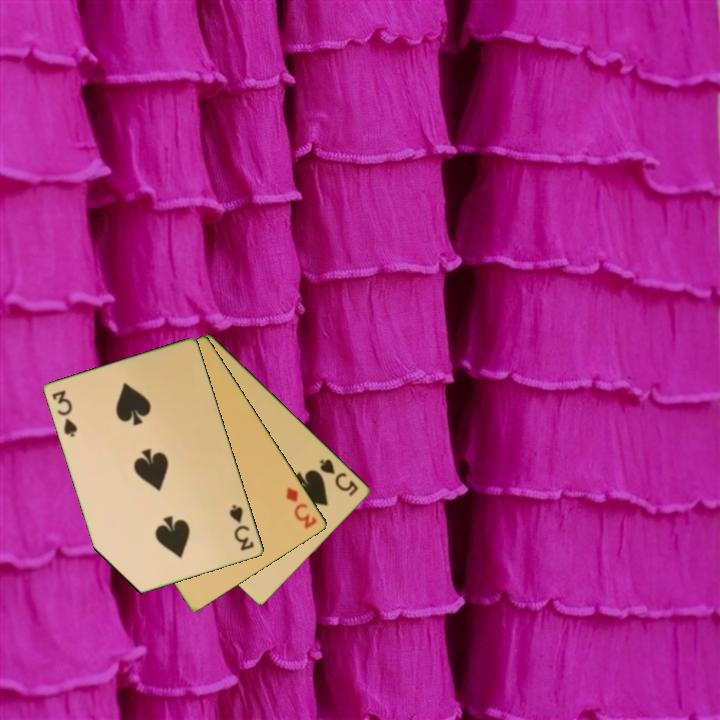3d: (282, 484, 320, 532)
3s: (49, 386, 81, 440), (226, 501, 257, 554)
5s: (316, 455, 362, 499)
